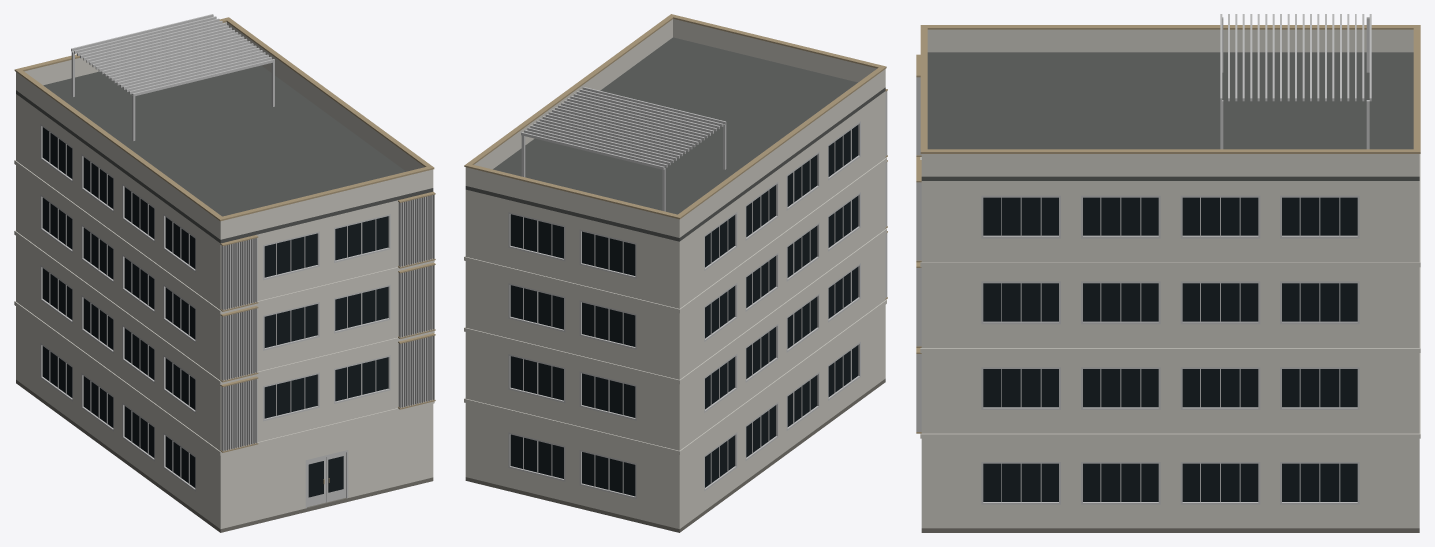
The model's file is OfficeArchive_Modular_Demo.fbx.
3 views of the same model, side by side, from view 1: azimuth 30°, elevation 25°; view 2: azimuth 150°, elevation 25°; view 3: azimuth 270°, elevation 25° (orthographic). The views are drawn at different scales.
Parts seen in each view (by area): view 1: OA_Facade_WindowBay_4m_Instance.026, OA_Facade_WindowBay_4m_Instance.002, OA_Facade_WindowBay_4m_Instance.014, OA_Facade_WindowBay_4m_Instance.025, OA_Facade_WindowBay_4m_Instance.013, OA_Facade_WindowBay_4m_Instance.001, OA_Wall_GroundCornerOuter_2m_Instance.001, OA_Wall_GroundDoubleDoor_4m_Instance.001, OA_Facade_GroundWindowBay_4m_Instance.010, OA_Facade_GroundWindowBay_4m_Instance.008, OA_Facade_GroundWindowBay_4m_Instance.006, OA_Facade_GroundWindowBay_4m_Instance.004 (+58 smaller); view 2: OA_Facade_GroundWindowBay_4m_Instance.002, OA_Facade_GroundWindowBay_4m_Instance.001, OA_Facade_WindowBay_4m_Instance.028, OA_Facade_WindowBay_4m_Instance.027, OA_Facade_WindowBay_4m_Instance.015, OA_Facade_WindowBay_4m_Instance.004, OA_Facade_WindowBay_4m_Instance.016, OA_Facade_WindowBay_4m_Instance.003, OA_Wall_GroundCornerOuter_2m_Instance.004, OA_Wall_CornerOuter_2m_Instance.012, OA_Wall_CornerOuter_2m_Instance.004, OA_Wall_CornerOuter_2m_Instance.008 (+53 smaller); view 3: OA_Facade_GroundWindowBay_4m_Instance.007, OA_Facade_GroundWindowBay_4m_Instance.003, OA_Facade_GroundWindowBay_4m_Instance.005, OA_Facade_GroundWindowBay_4m_Instance.009, OA_Facade_WindowBay_4m_Instance.033, OA_Facade_WindowBay_4m_Instance.029, OA_Facade_WindowBay_4m_Instance.031, OA_Facade_WindowBay_4m_Instance.035, OA_Facade_WindowBay_4m_Instance.009, OA_Facade_WindowBay_4m_Instance.021, OA_Facade_WindowBay_4m_Instance.005, OA_Facade_WindowBay_4m_Instance.007 (+48 smaller).
Part boxes in pixels (box(x1,y1,x2,y2)): OA_Facade_WindowBay_4m_Instance.026: box(327, 200, 397, 284); OA_Facade_WindowBay_4m_Instance.002: box(327, 342, 397, 425); OA_Facade_WindowBay_4m_Instance.014: box(327, 271, 397, 354); OA_Facade_WindowBay_4m_Instance.025: box(256, 217, 326, 300); OA_Facade_WindowBay_4m_Instance.013: box(257, 288, 326, 371); OA_Facade_WindowBay_4m_Instance.001: box(257, 359, 326, 441); OA_Wall_GroundCornerOuter_2m_Instance.001: box(200, 441, 255, 529); OA_Wall_GroundDoubleDoor_4m_Instance.001: box(291, 421, 362, 511); OA_Facade_GroundWindowBay_4m_Instance.010: box(36, 321, 77, 423); OA_Facade_GroundWindowBay_4m_Instance.008: box(77, 351, 118, 453); OA_Facade_GroundWindowBay_4m_Instance.006: box(118, 381, 158, 483); OA_Facade_GroundWindowBay_4m_Instance.004: box(159, 411, 199, 513); OA_Facade_GroundWindowBay_4m_Instance.002: box(501, 411, 572, 502); OA_Facade_GroundWindowBay_4m_Instance.001: box(572, 429, 643, 520); OA_Facade_WindowBay_4m_Instance.028: box(501, 198, 572, 282); OA_Facade_WindowBay_4m_Instance.027: box(572, 216, 643, 299); OA_Facade_WindowBay_4m_Instance.015: box(572, 287, 643, 370); OA_Facade_WindowBay_4m_Instance.004: box(501, 340, 572, 424); OA_Facade_WindowBay_4m_Instance.016: box(501, 269, 572, 353); OA_Facade_WindowBay_4m_Instance.003: box(572, 358, 643, 441); OA_Wall_GroundCornerOuter_2m_Instance.004: box(644, 440, 700, 528); OA_Wall_CornerOuter_2m_Instance.012: box(644, 227, 700, 308); OA_Wall_CornerOuter_2m_Instance.004: box(644, 369, 700, 450); OA_Wall_CornerOuter_2m_Instance.008: box(644, 299, 700, 379); OA_Facade_GroundWindowBay_4m_Instance.007: box(1170, 438, 1270, 528); OA_Facade_GroundWindowBay_4m_Instance.003: box(971, 438, 1070, 528); OA_Facade_GroundWindowBay_4m_Instance.005: box(1071, 438, 1170, 528); OA_Facade_GroundWindowBay_4m_Instance.009: box(1270, 438, 1369, 528); OA_Facade_WindowBay_4m_Instance.033: box(1170, 181, 1270, 262); OA_Facade_WindowBay_4m_Instance.029: box(971, 181, 1070, 262); OA_Facade_WindowBay_4m_Instance.031: box(1071, 181, 1170, 262); OA_Facade_WindowBay_4m_Instance.035: box(1270, 181, 1369, 262); OA_Facade_WindowBay_4m_Instance.009: box(1170, 353, 1270, 433); OA_Facade_WindowBay_4m_Instance.021: box(1170, 267, 1270, 347); OA_Facade_WindowBay_4m_Instance.005: box(971, 353, 1070, 433); OA_Facade_WindowBay_4m_Instance.007: box(1071, 353, 1170, 433).
Bounding box in the file's own units: 12.1 × 18.34 × 20.27.
